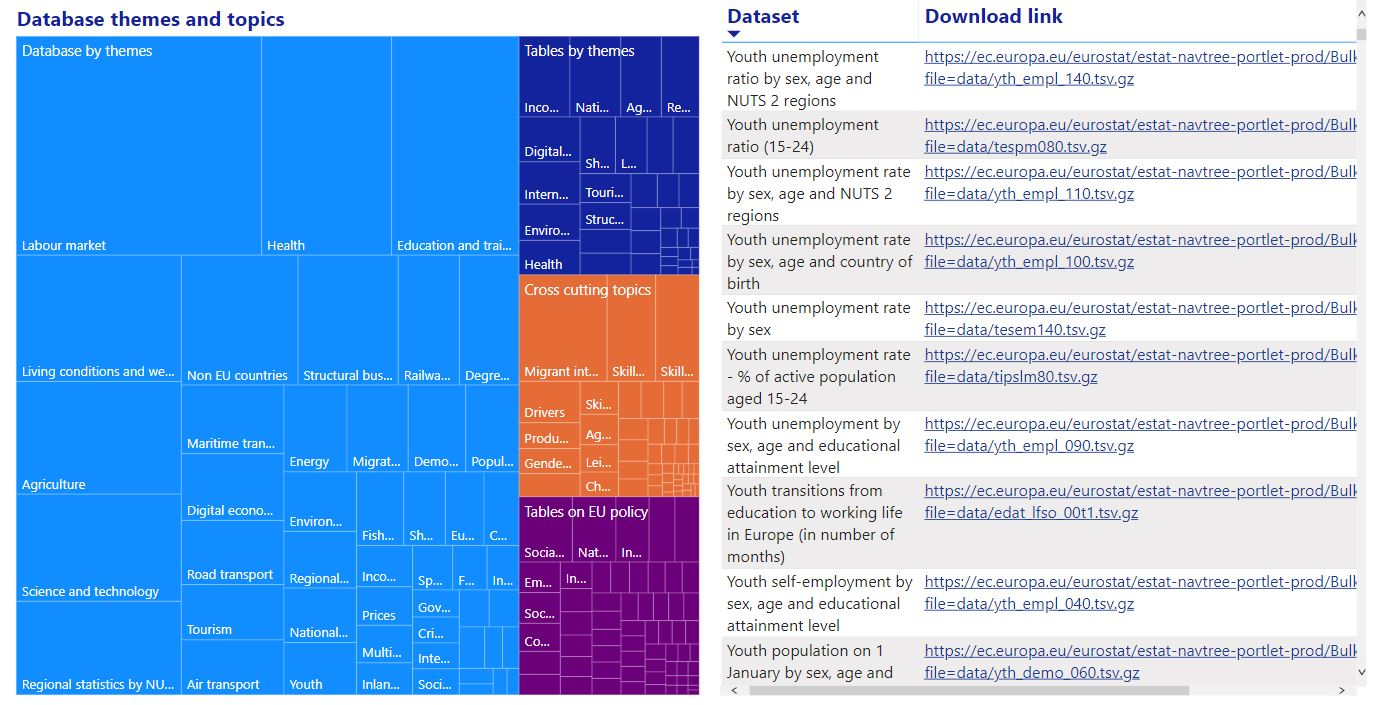

The page's visual inventory and layout, read from the dashboard file:
{"tool":"powerbi","page":{"name":"DB topics and datasets","canvas":[1600,1000],"ordinal":2},"visuals":[{"type":"treemap","title":"Database themes and topics","fields":{"Group":["Crumbs.name1","Crumbs.name2"],"Values":["Count(Crumbs.Files)"],"Details":["Crumbs.name3"]},"box":[32,8.9,839.1,954.7],"z":0},{"type":"tableEx","fields":{"Values":["Crumbs.last_name","crumbs.Files"]},"box":[871.1,0,714.7,986.7],"z":1000}]}

Visuals, with their boxes on the page's 1600x1000 design canvas (x1, y1, x2, y2). These are canvas units, not pixel positions in the 1398x705 screenshot, which may show the page scaled, cropped or inside an application window:
"Database themes and topics" treemap: [x1=32, y1=9, x2=871, y2=964]
tableEx - Crumbs.last_name x crumbs.Files: [x1=871, y1=0, x2=1586, y2=987]
